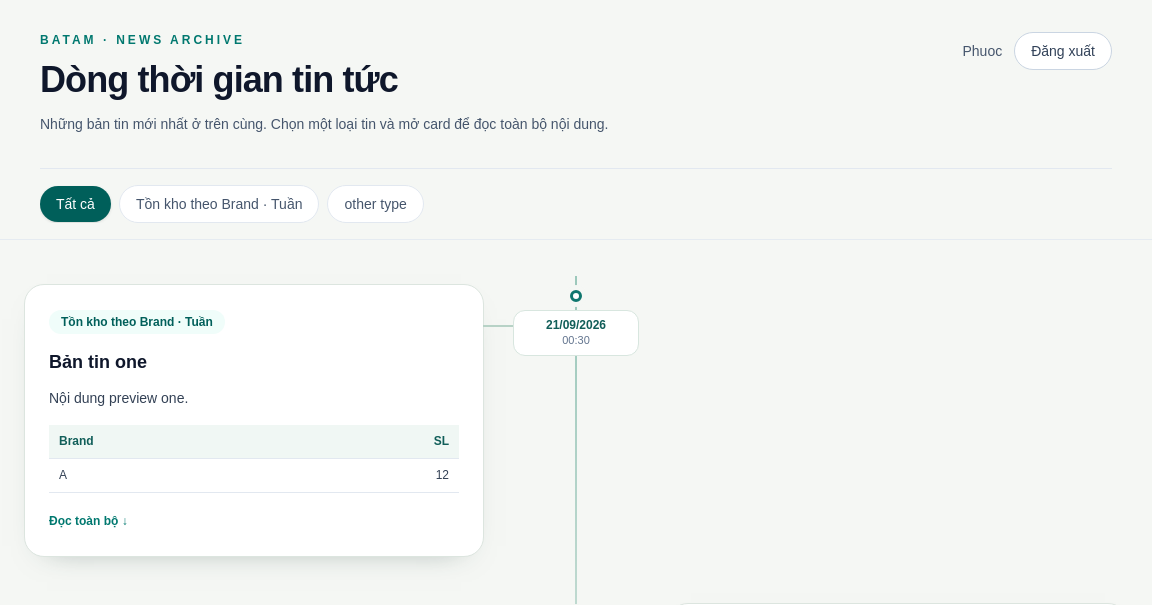
Test case: filters on the server and appends a page without duplicate cards
The image size is (1152, 605).
Click the button "other type" at (376, 204), box x1=328 y1=185 x2=424 y2=223
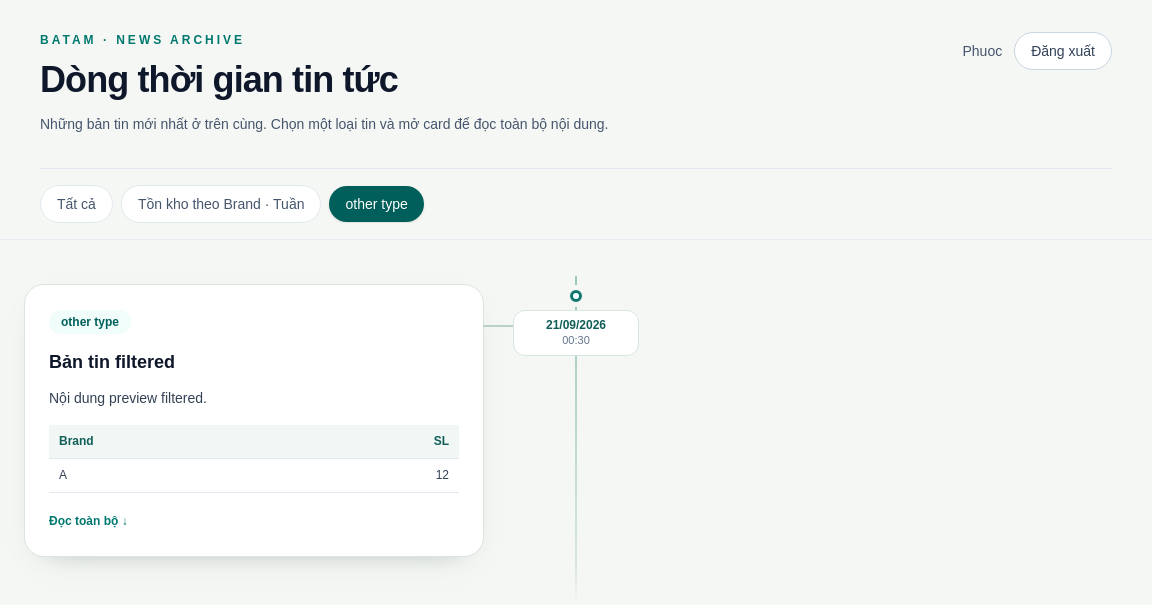
Result: the heading "Bản tin filtered" is shown at x1=49 y1=352 x2=175 y2=372
